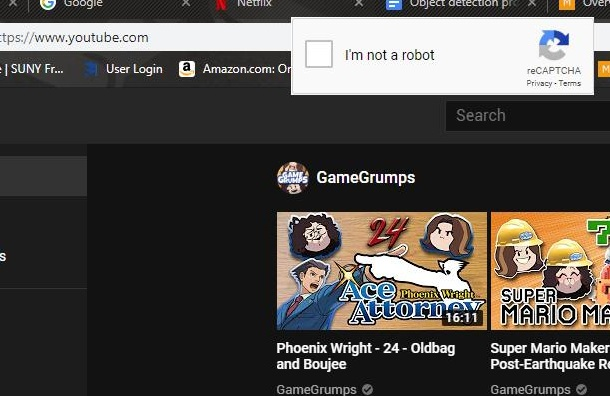captcha: (305, 39, 434, 68)
